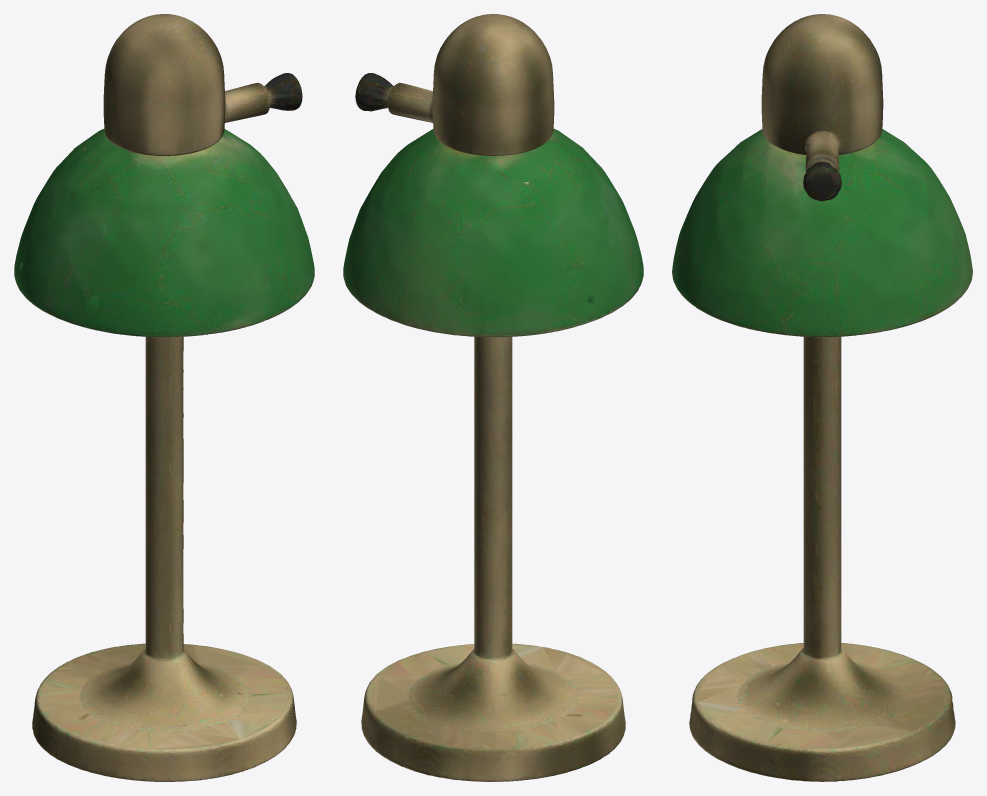
The model's file is r3d_word_lamp.glb.
3 renders of one model, left to right at view 1: azimuth 30°, elevation 25°; view 2: azimuth 150°, elevation 25°; view 3: azimuth 270°, elevation 25°, orthographic.
Parts seen in each view (by area): view 1: desk_lamp; view 2: desk_lamp; view 3: desk_lamp.
Boxes of the visible parts, bbox=[...] form: desk_lamp: bbox=[14, 14, 314, 781]; desk_lamp: bbox=[343, 14, 643, 781]; desk_lamp: bbox=[672, 14, 972, 781].
Size of what is drawn, in the model's own units: 0.1745 by 0.45 by 0.1736.
1 material, 1 textured.
